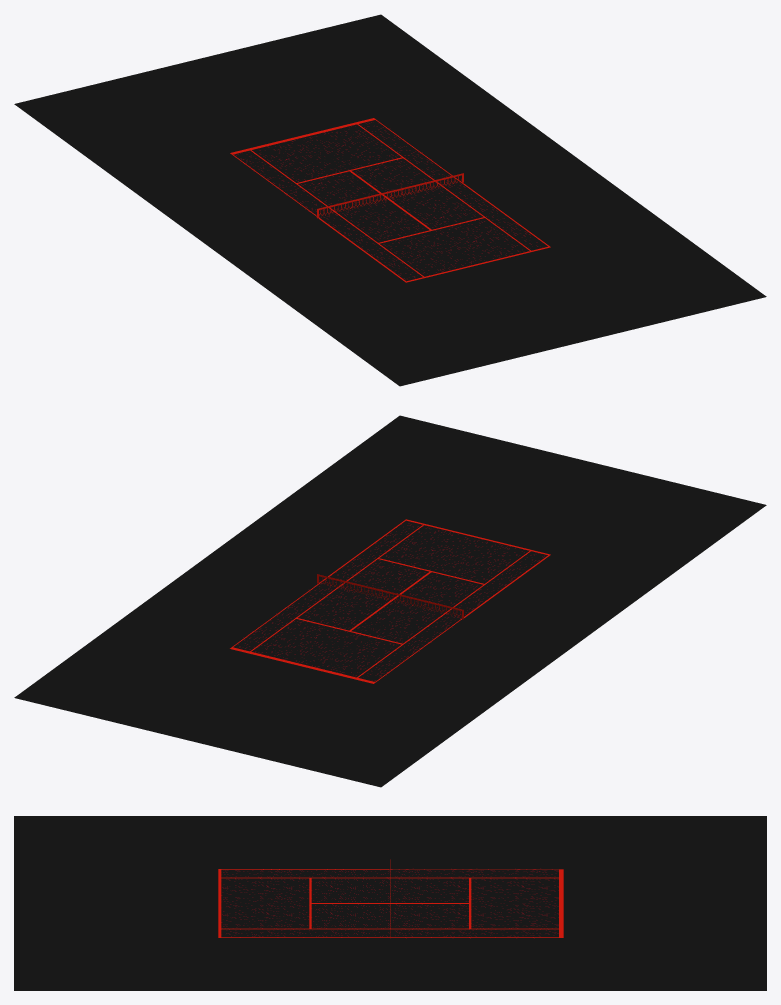
The model's file is tennis.obj.
3 views of the same model, one above another, from view 1: azimuth 30°, elevation 25°; view 2: azimuth 150°, elevation 25°; view 3: azimuth 270°, elevation 25° (orthographic). The views are drawn at different scales.
Visible parts, largest first — view 1: Mesh1 Model; view 2: Mesh1 Model; view 3: Mesh1 Model.
Part boxes in pixels (<box>): Mesh1 Model: <box>14,14,766,386</box>; Mesh1 Model: <box>14,415,766,787</box>; Mesh1 Model: <box>14,816,766,990</box>.
Size of the model in its own units: 31.6 by 0.775 by 57.53.
